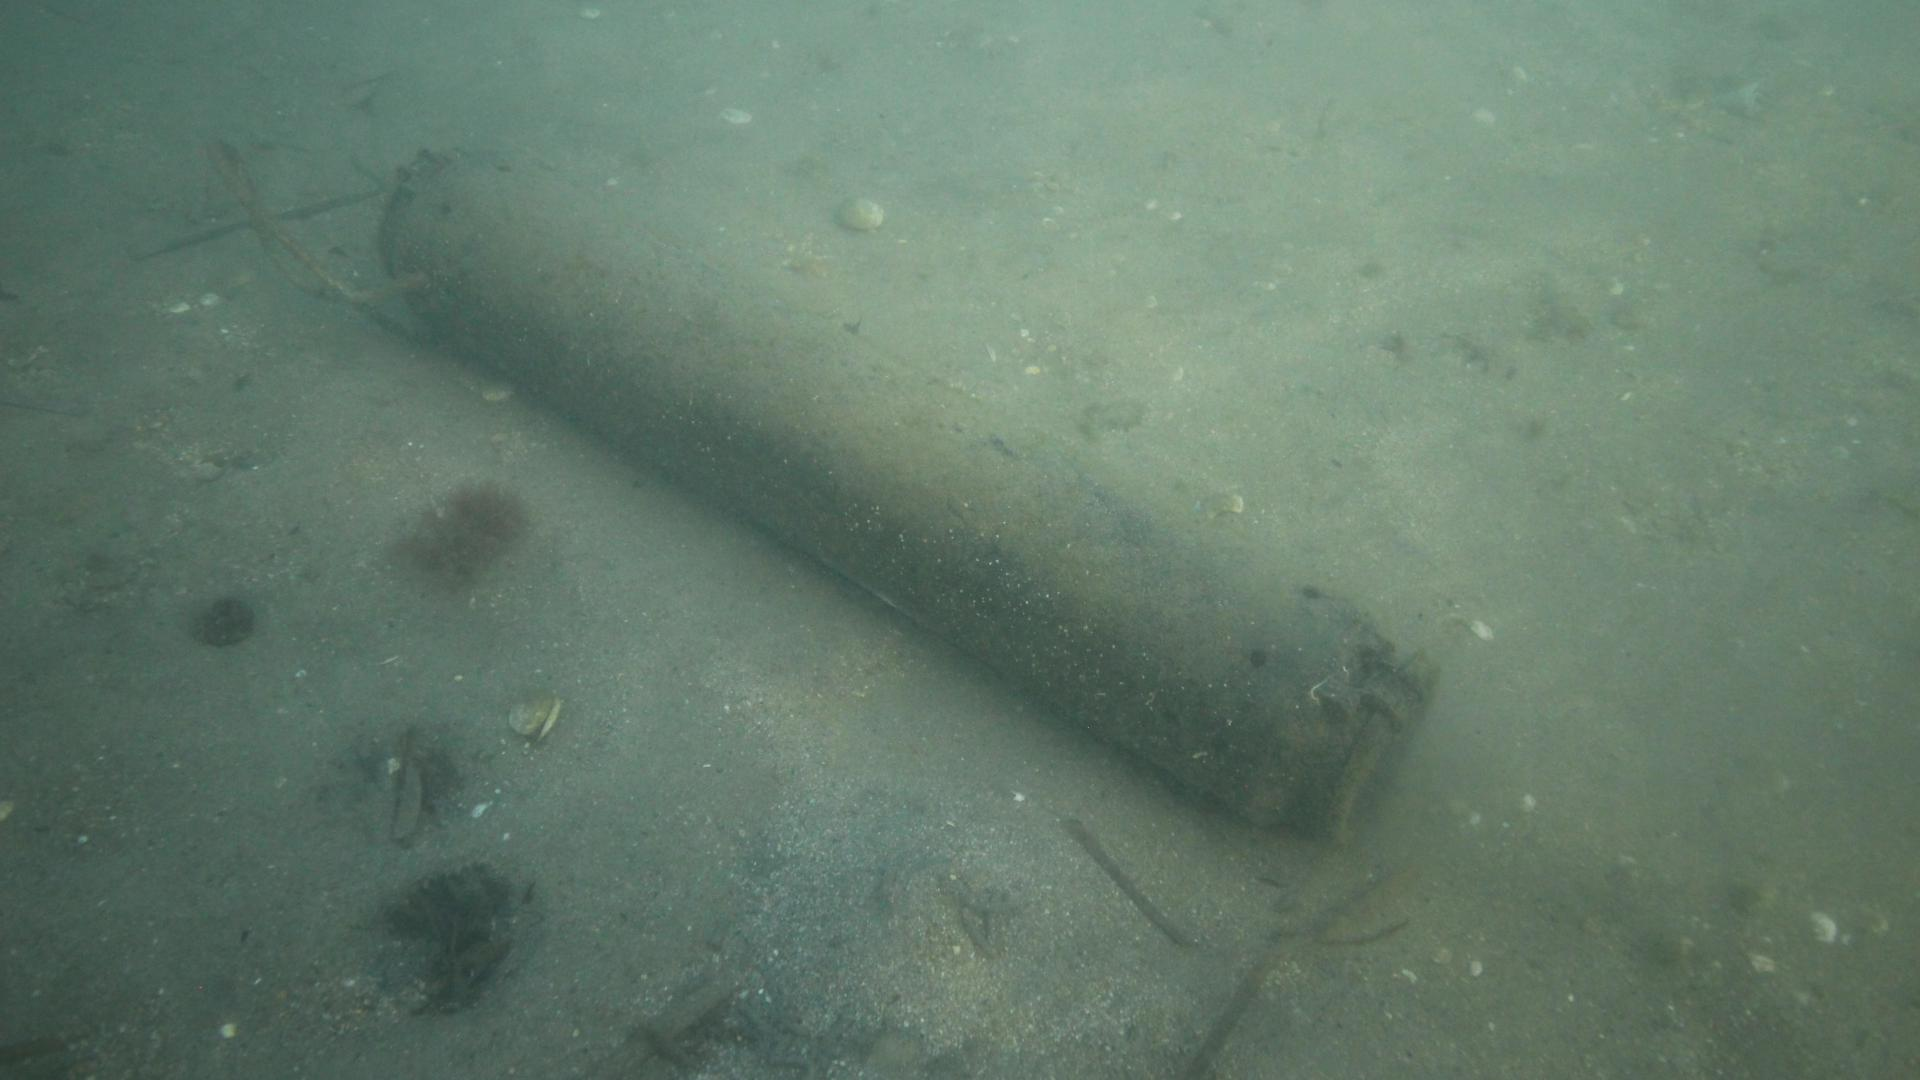eel fish trap: (375, 142, 1443, 856)
rope: (204, 135, 426, 305)
